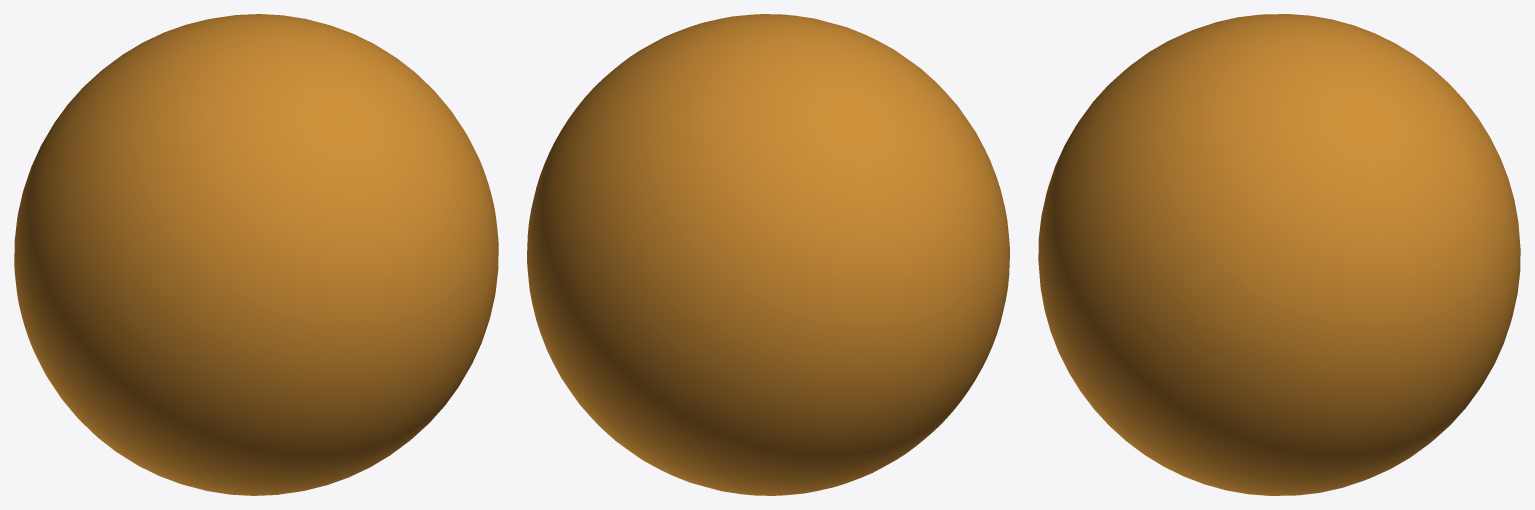
File: moon.obj
3 renders of one model, left to right at view 1: azimuth 30°, elevation 25°; view 2: azimuth 150°, elevation 25°; view 3: azimuth 270°, elevation 25°, orthographic.
Parts seen in each view (by area): view 1: Sphere; view 2: Sphere; view 3: Sphere.
Boxes of the visible parts, left/top/right/bottom form: Sphere: left=14, top=14, right=498, bottom=495; Sphere: left=527, top=14, right=1009, bottom=495; Sphere: left=1038, top=14, right=1520, bottom=495.
Size of the model in its own units: 1.99 by 1.97 by 1.97.
